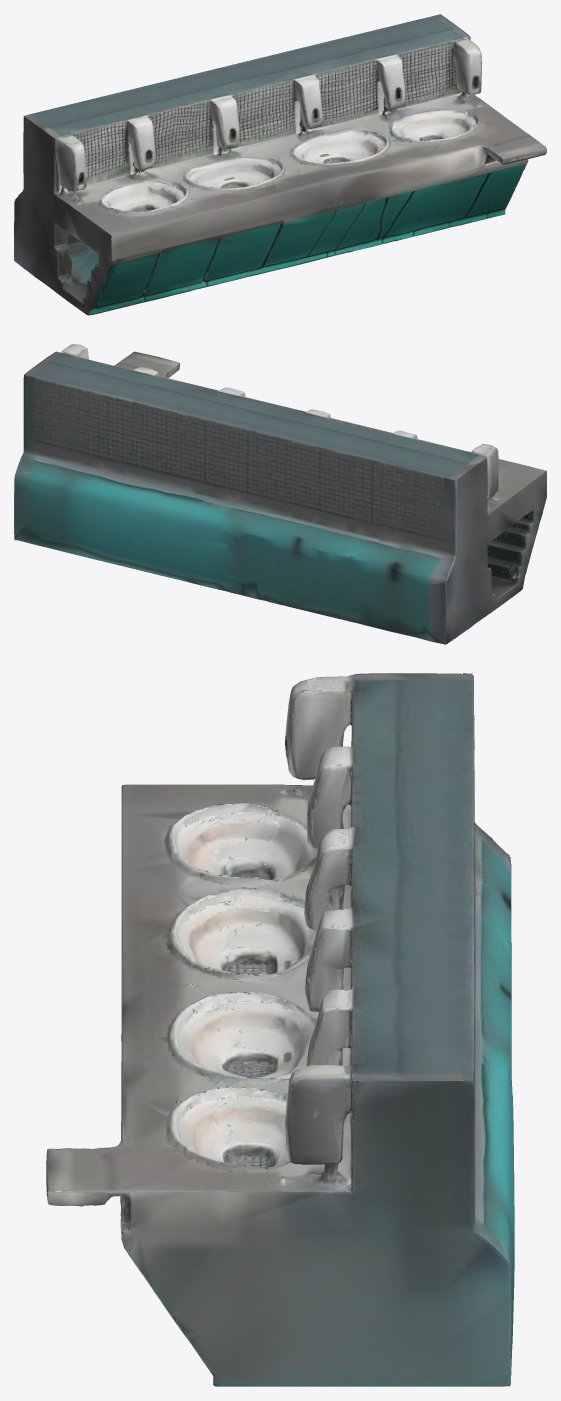
Rendered from sink_row.glb.
3 views of the same model, one above another, from view 1: azimuth 30°, elevation 25°; view 2: azimuth 150°, elevation 25°; view 3: azimuth 270°, elevation 25° (orthographic). The views are drawn at different scales.
Visible parts, largest first — view 1: Mesh_0; view 2: Mesh_0; view 3: Mesh_0.
Part boxes in pixels (x1,y1,x2,y2): Mesh_0: (14,14,546,315); Mesh_0: (14,344,546,644); Mesh_0: (46,673,514,1386).
Size of the model in its own units: 2 by 0.7055 by 0.9715.
1 material, 1 textured.
